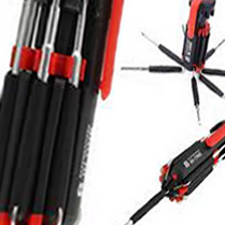screwdriver: (125, 60, 225, 124)
